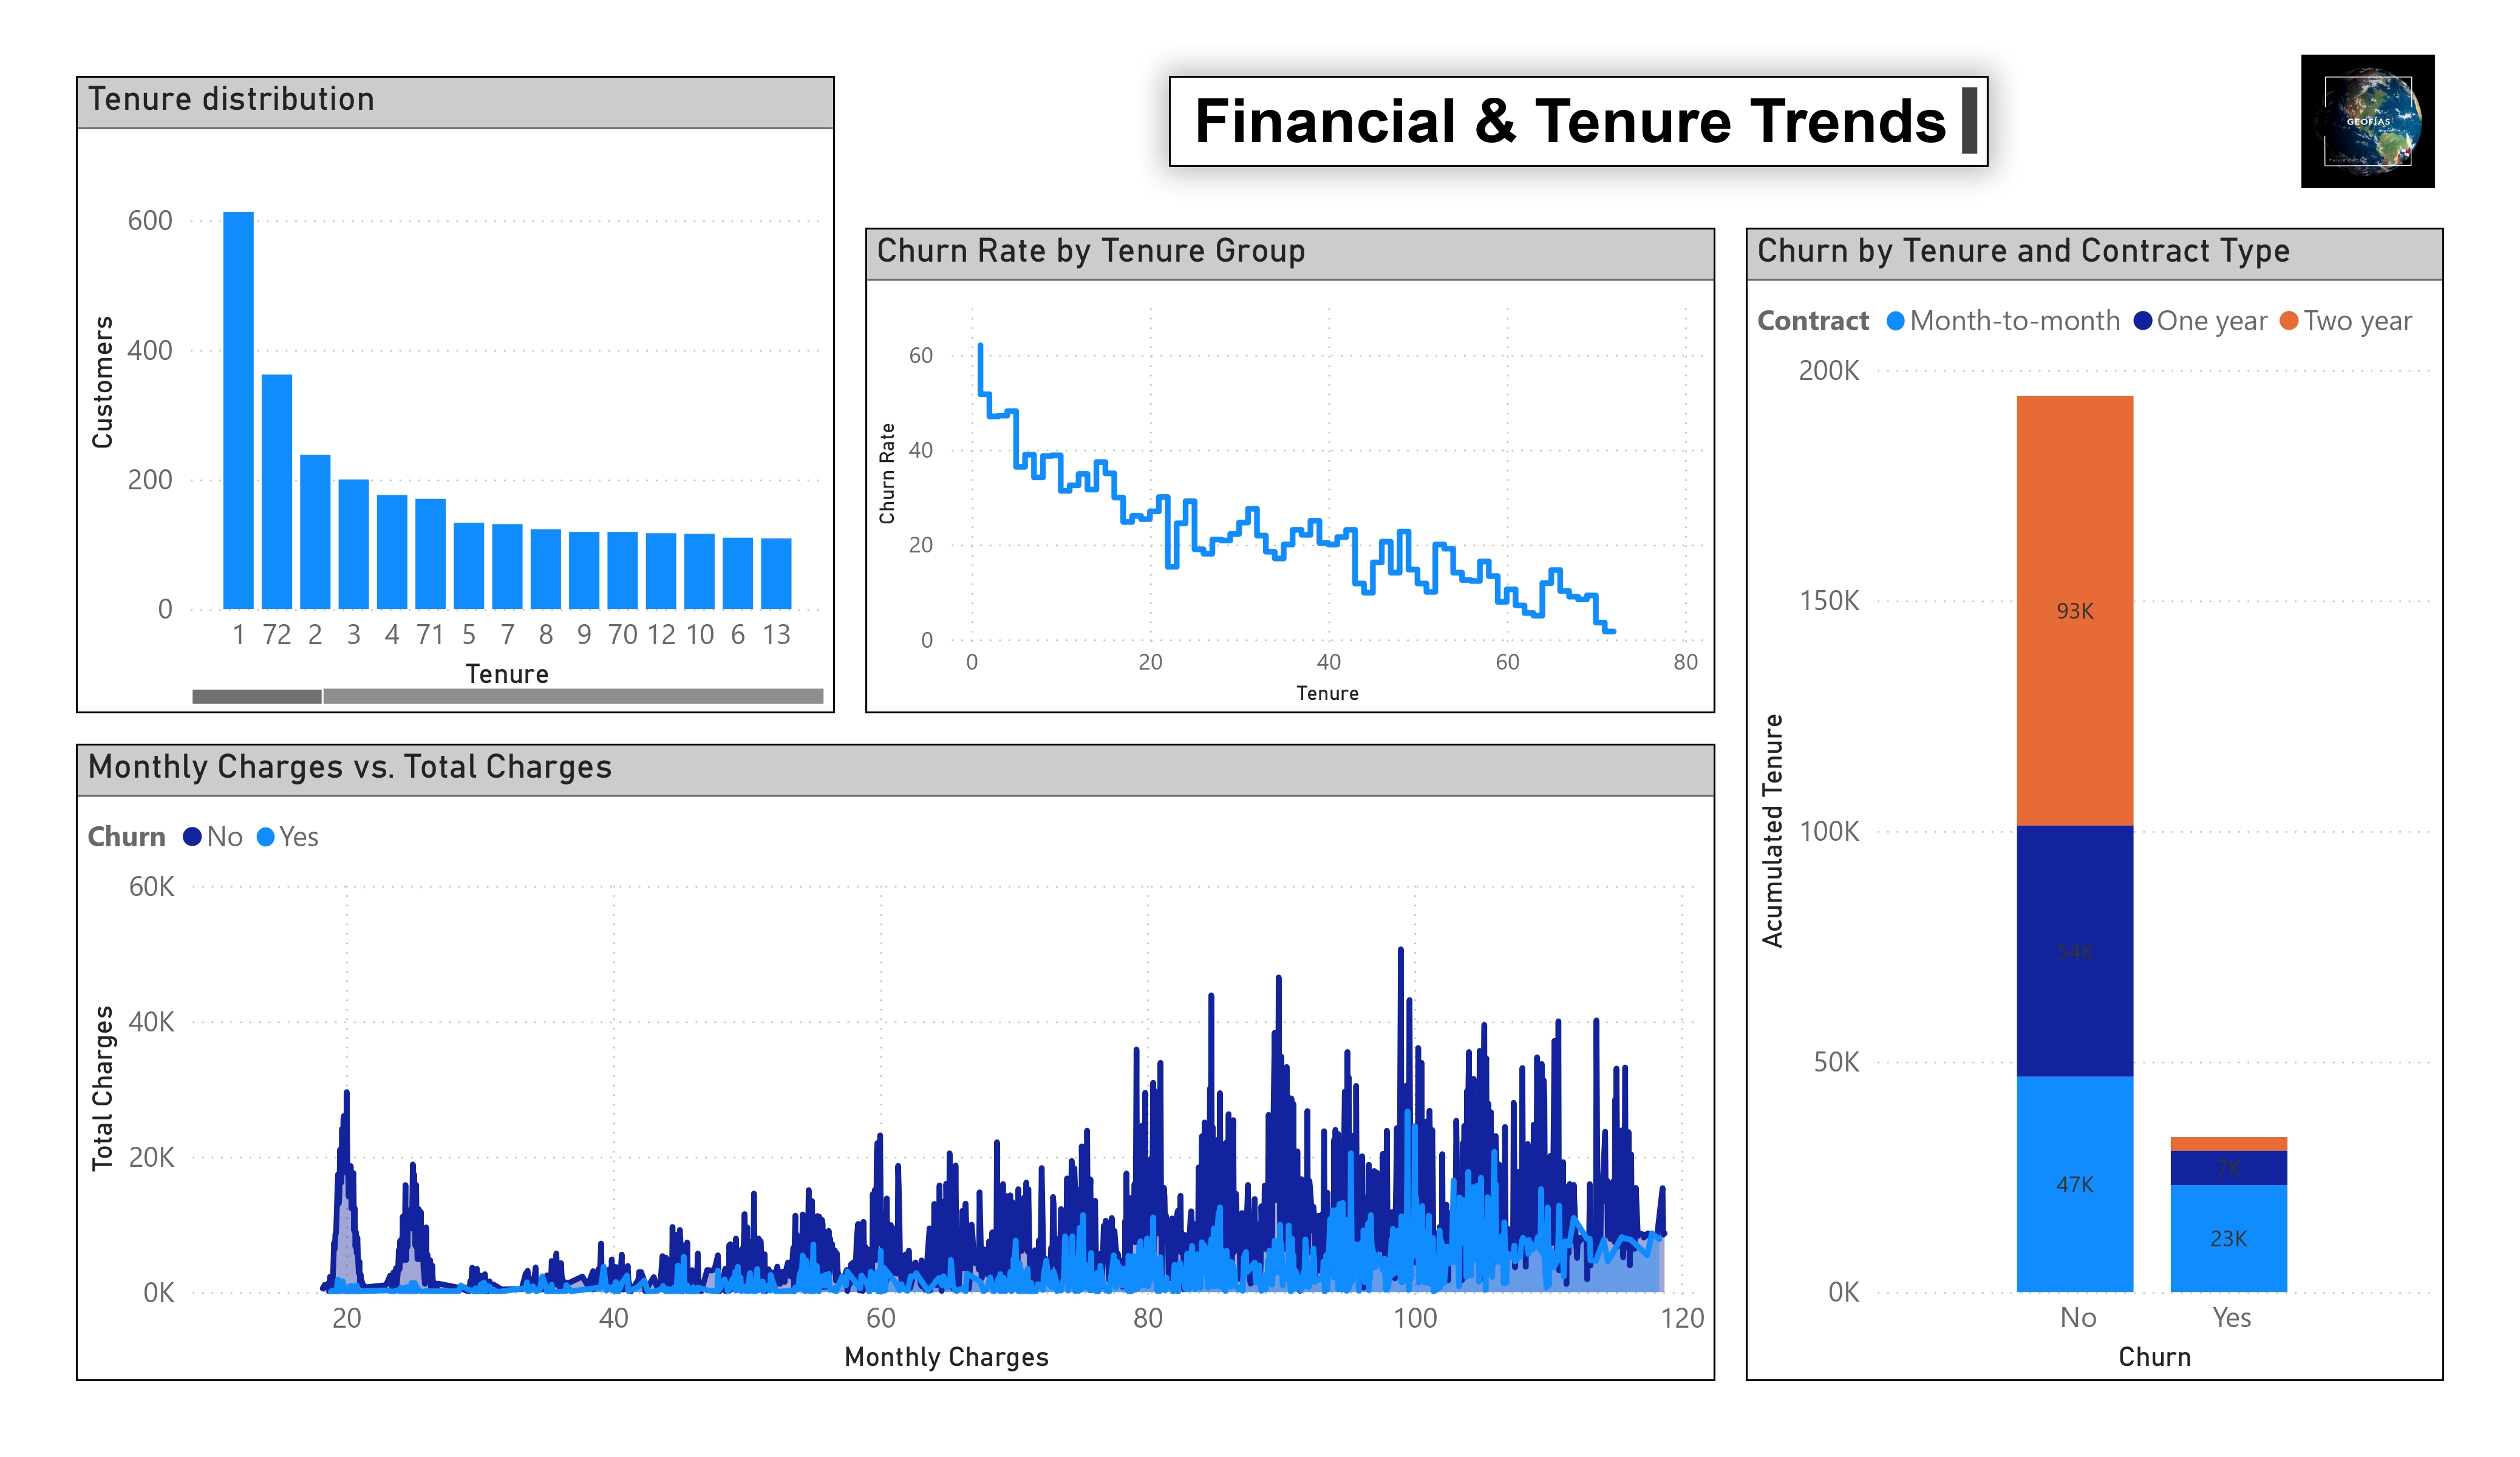

This screenshot's page, from the dashboard's own definition file:
{"tool":"powerbi","page":{"name":"Tenure & Financial Analysis","canvas":[1280,720],"ordinal":2},"visuals":[{"type":"image","box":[1184,0,80,80],"z":0},{"type":"textbox","box":[592,16,432,48],"z":1000},{"type":"clusteredColumnChart","title":"Tenure distribution","fields":{"Category":["churn_customers.tenure"],"Y":["CountNonNull(churn_customers.tenure)"]},"box":[16,16,400,336],"z":2000},{"type":"lineChart","title":"Churn Rate by Tenure Group","fields":{"Category":["churn_customers.tenure"],"Y":["churn_customers.Churn_Rate"]},"box":[432,96,448,256],"z":3000},{"type":"areaChart","title":"Monthly Charges vs. Total Charges","fields":{"Category":["churn_customers.MonthlyCharges"],"Series":["churn_customers.Churn"],"Y":["Sum(churn_customers.TotalCharges)"]},"box":[16,368,864,336],"z":4000},{"type":"columnChart","title":"Churn by Tenure and Contract Type","fields":{"Category":["churn_customers.Churn"],"Y":["Sum(churn_customers.tenure)"],"Series":["churn_customers.Contract"]},"box":[896,96,368,608],"z":5000}]}

Visuals, with their boxes in screenshot pixels (x1, y1, x2, y2):
image: <bbox>2283, 52, 2433, 202</bbox>
textbox: <bbox>1174, 83, 1983, 172</bbox>
"Tenure distribution" clusteredColumnChart: <bbox>95, 83, 845, 712</bbox>
"Churn Rate by Tenure Group" lineChart: <bbox>874, 233, 1714, 712</bbox>
"Monthly Charges vs. Total Charges" areaChart: <bbox>95, 741, 1714, 1371</bbox>
"Churn by Tenure and Contract Type" columnChart: <bbox>1743, 233, 2433, 1371</bbox>
